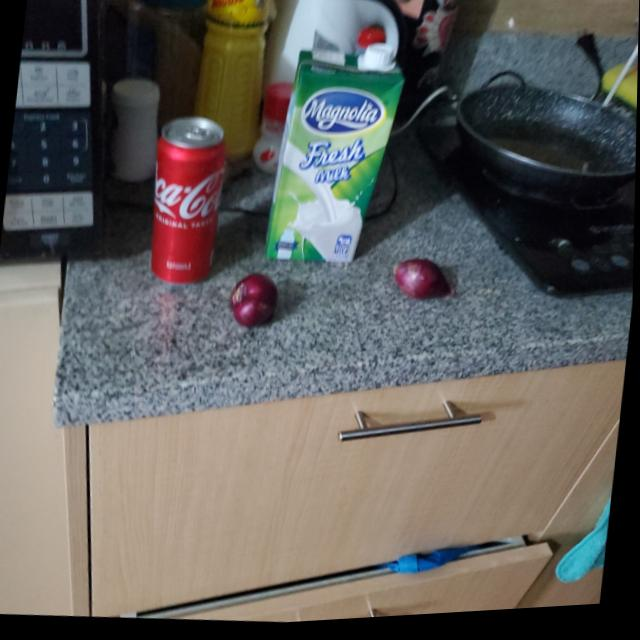coke: (143, 113, 234, 292)
milk: (267, 41, 406, 271)
onion: (228, 269, 286, 331), (391, 262, 453, 303)
